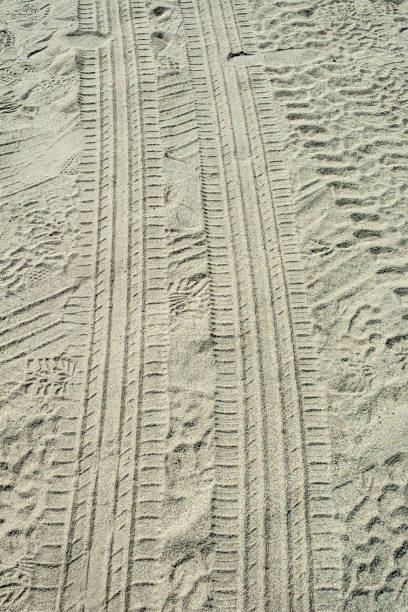vehicle_track: (54, 0, 340, 611), (182, 1, 340, 608), (56, 0, 167, 609), (181, 2, 284, 609), (160, 6, 252, 608), (29, 50, 110, 609), (106, 0, 168, 611)
